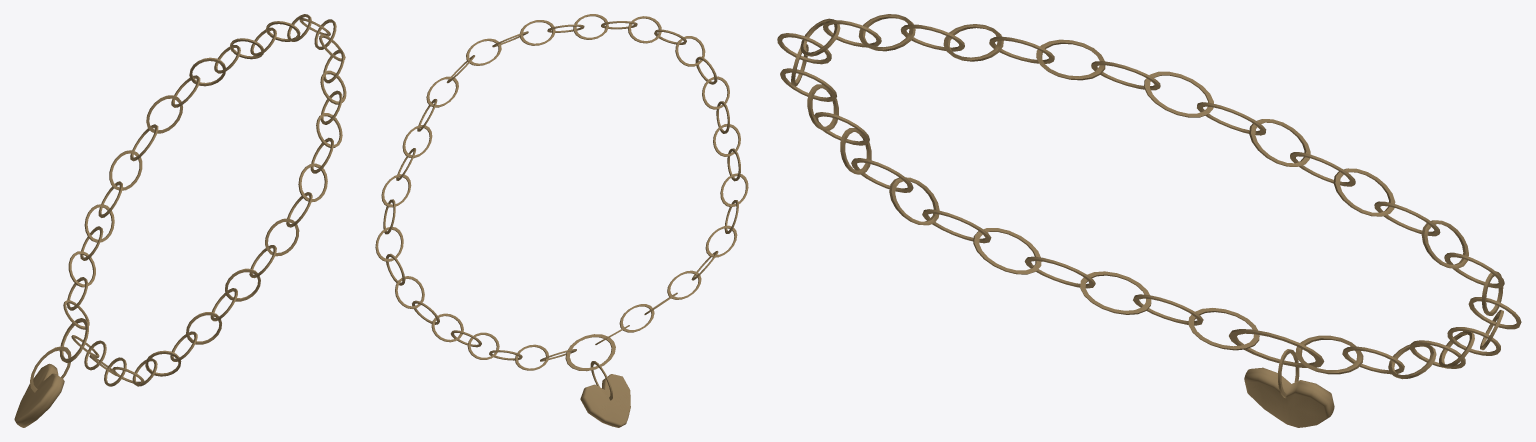
Rendered from bracelet_2_rose_-_character_jewelry_free.glb.
3 views of the same model, side by side, from view 1: azimuth 30°, elevation 25°; view 2: azimuth 150°, elevation 25°; view 3: azimuth 270°, elevation 25° (orthographic). The views are drawn at different scales.
Visible parts, largest first — view 1: Charm Bracelet; view 2: Charm Bracelet; view 3: Charm Bracelet.
Boxes of the visible parts, left/top/right/bottom form: Charm Bracelet: left=14, top=14, right=346, bottom=427; Charm Bracelet: left=375, top=14, right=748, bottom=427; Charm Bracelet: left=777, top=14, right=1521, bottom=427.
Bounding box in the file's own units: 0.0442 × 0.0598 × 0.0763.
1 material, 1 textured.
